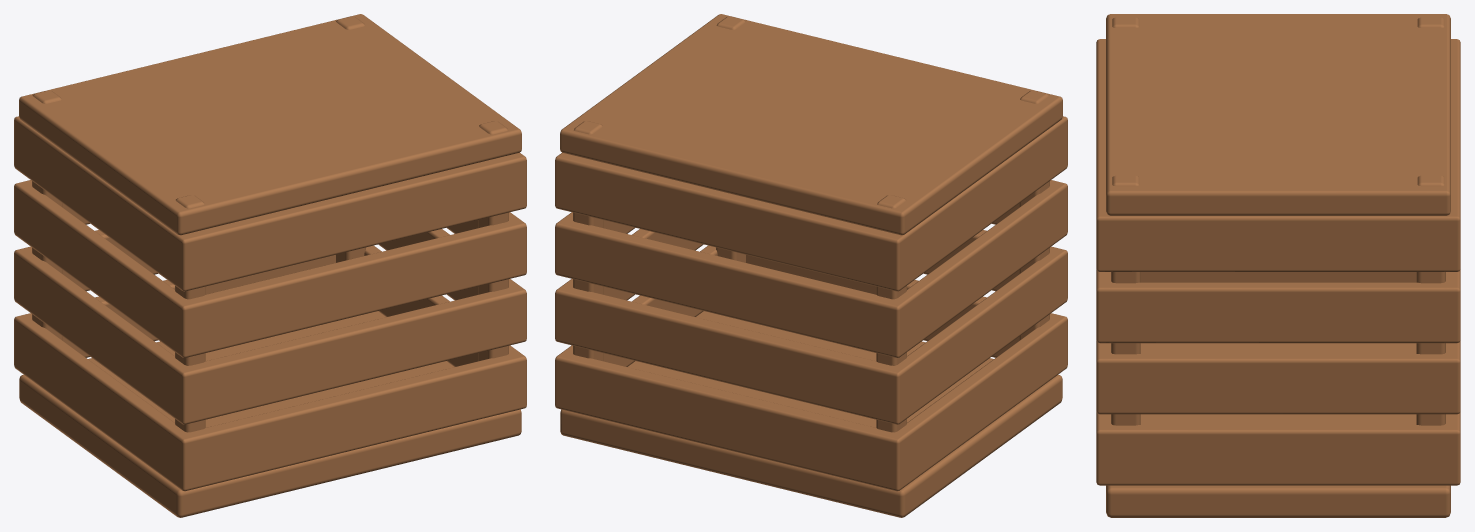
File: wp-caisse-de-butin.glb
3 views of the same model, side by side, from view 1: azimuth 30°, elevation 25°; view 2: azimuth 150°, elevation 25°; view 3: azimuth 270°, elevation 25° (orthographic). The views are drawn at different scales.
Visible parts, largest first — view 1: wp-caisse-de-butin; view 2: wp-caisse-de-butin; view 3: wp-caisse-de-butin.
Part boxes in pixels (<box>): wp-caisse-de-butin: <box>14,14,526,517</box>; wp-caisse-de-butin: <box>555,14,1067,517</box>; wp-caisse-de-butin: <box>1096,14,1460,517</box>.
Bounding box in the file's own units: 0.7 × 0.6 × 0.6.
